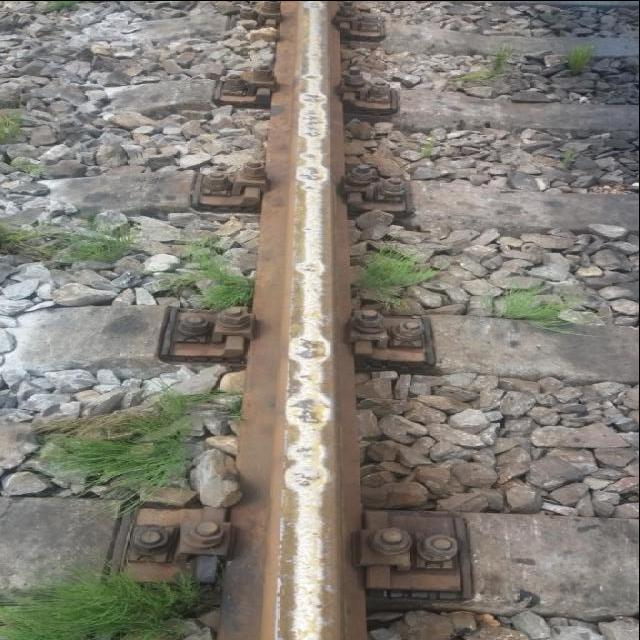head_checks_high: (283, 437, 335, 497), (288, 386, 334, 434), (297, 89, 333, 143), (289, 327, 335, 367), (293, 148, 331, 194), (295, 254, 329, 276), (289, 369, 333, 385), (297, 69, 329, 83), (300, 0, 329, 12), (308, 47, 326, 60)
